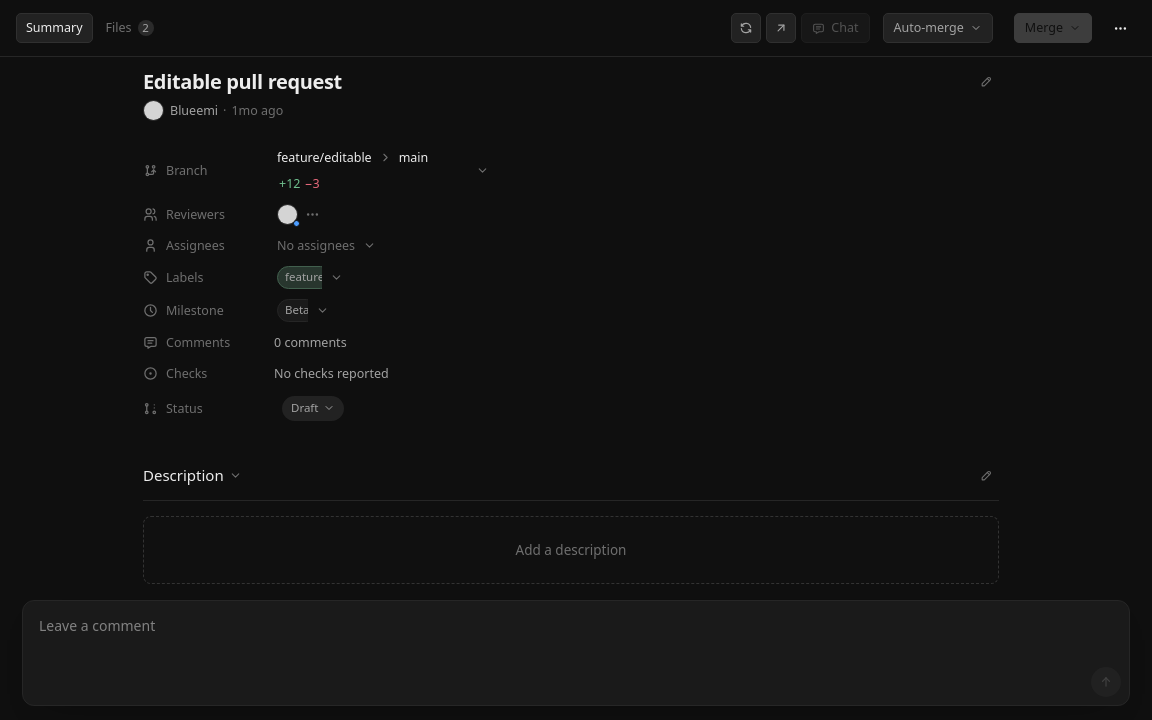
Scenario: PullRequestDetailPane inline editing › surfaces a failed refresh as a notice without replacing the loaded detail
Expected: the heading "Editable pull request" is shown, [143, 69, 342, 94]
Click the button named "Refresh pull request" at (746, 28), box [731, 13, 761, 43]
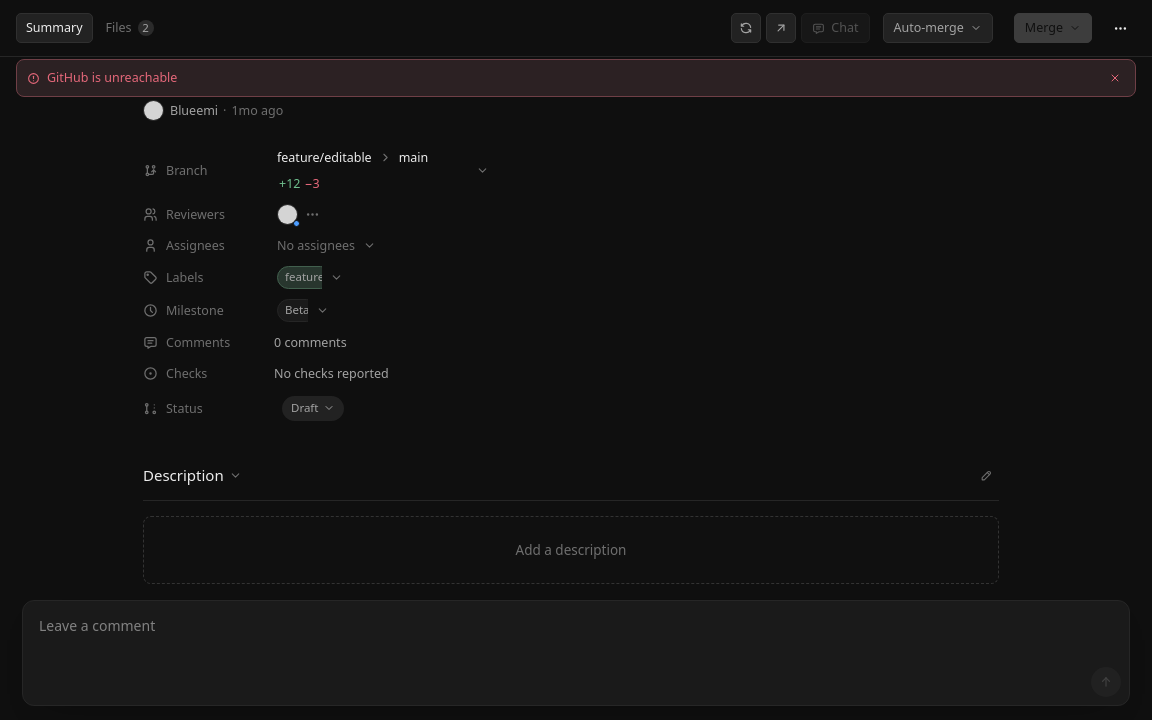
Expected: the heading "Editable pull request" is shown, [143, 69, 342, 94]
Result: the message reads "GitHub is unreachable" at [47, 69, 177, 86]
